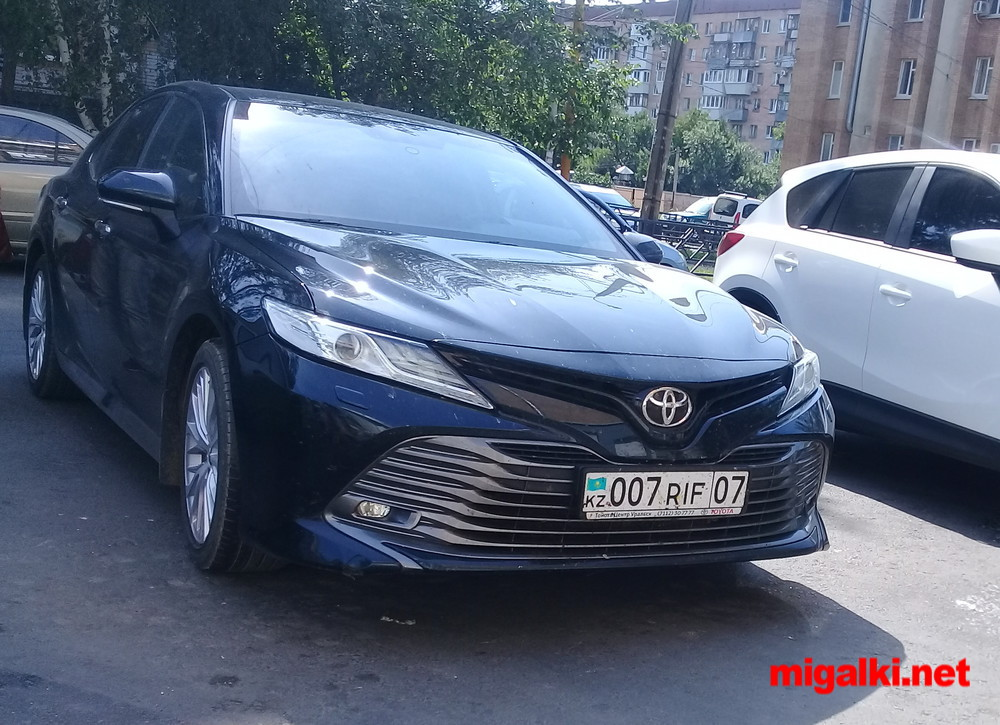license_plate: (583, 464, 750, 518)
